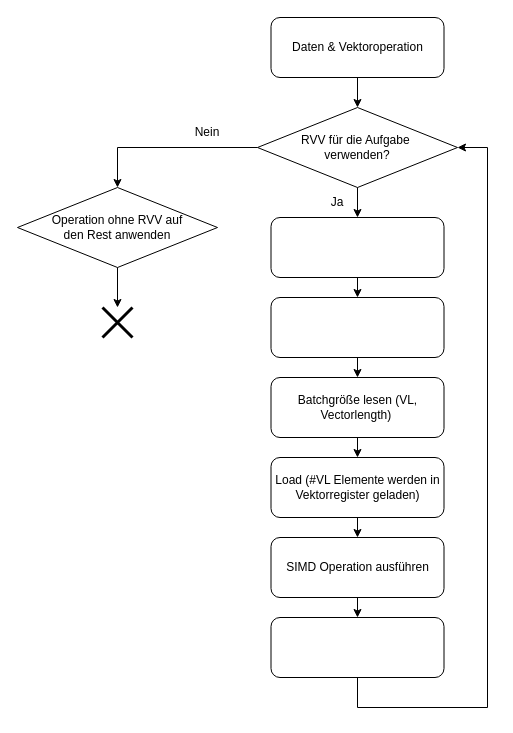
Image size: 513x733. Some labels were removed from this diagram. Each missing label, with the centre of its shape:
Elementanzahl (AVL) bestimmen: the point at 357,247
Store (#VL Elemente werden aus Vektorregister gelesen): the point at 357,647
Vektorengine konfigurieren mit set(i)vli (SEW, LMUL): the point at 357,327
